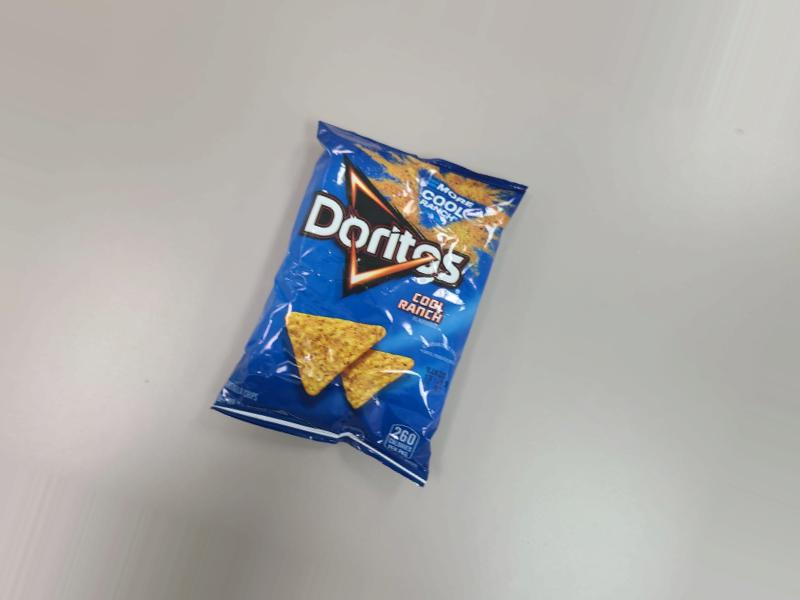doritos: (219, 110, 531, 508)
